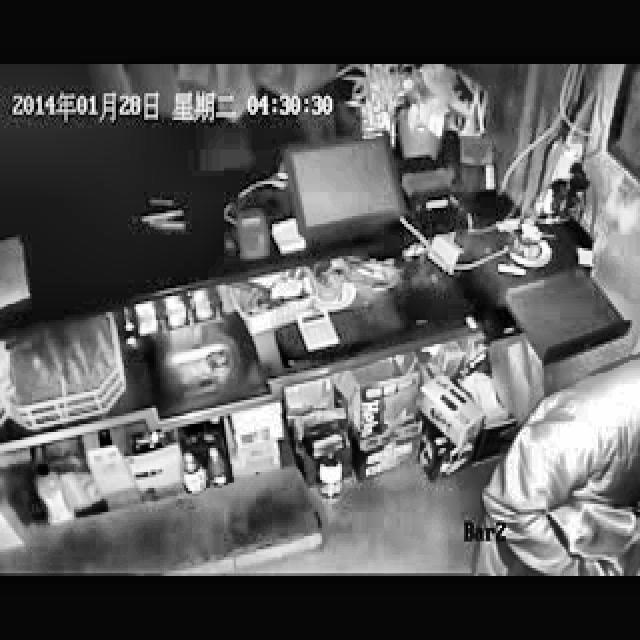burglary: (466, 356, 640, 574)
